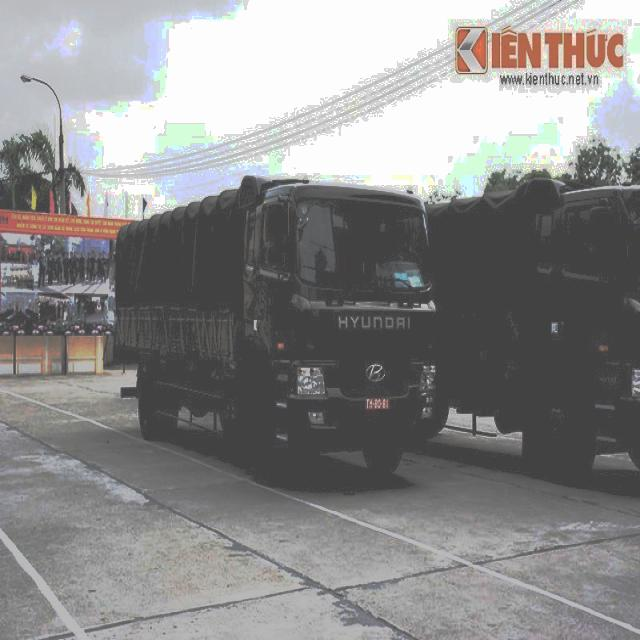license_plate: (367, 398, 391, 412)
